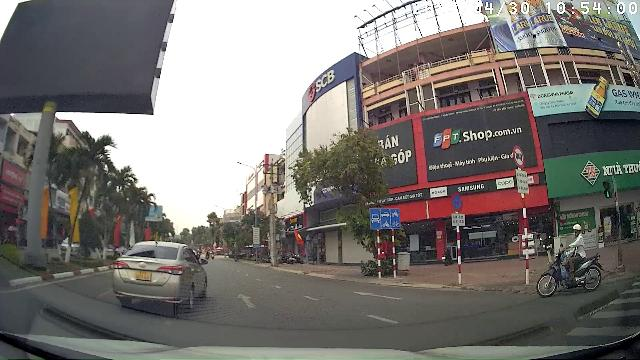130-cam-dung-va-do-xe: (451, 192, 463, 211)
